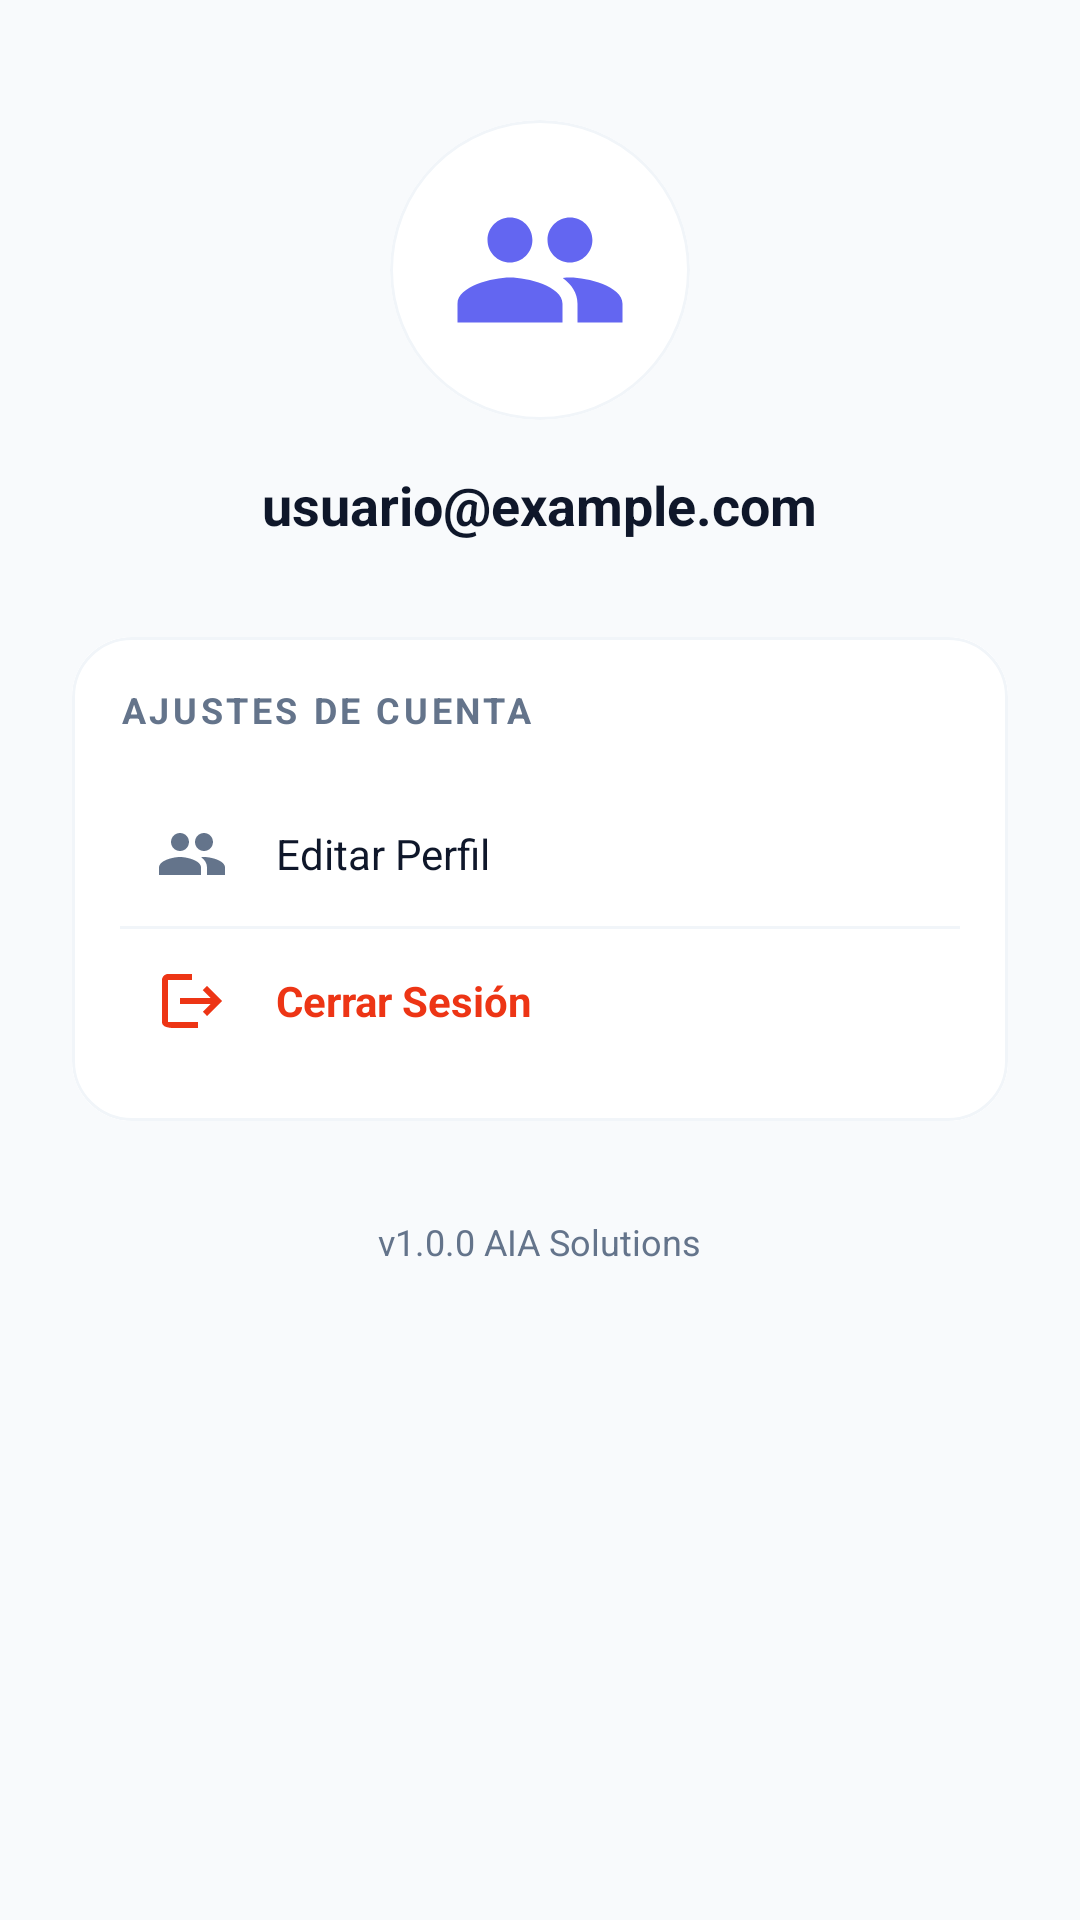

Where to tap for icons on this 1080px x 1920px app screen, as [x,y]:
people: [540,270], [192,854]
